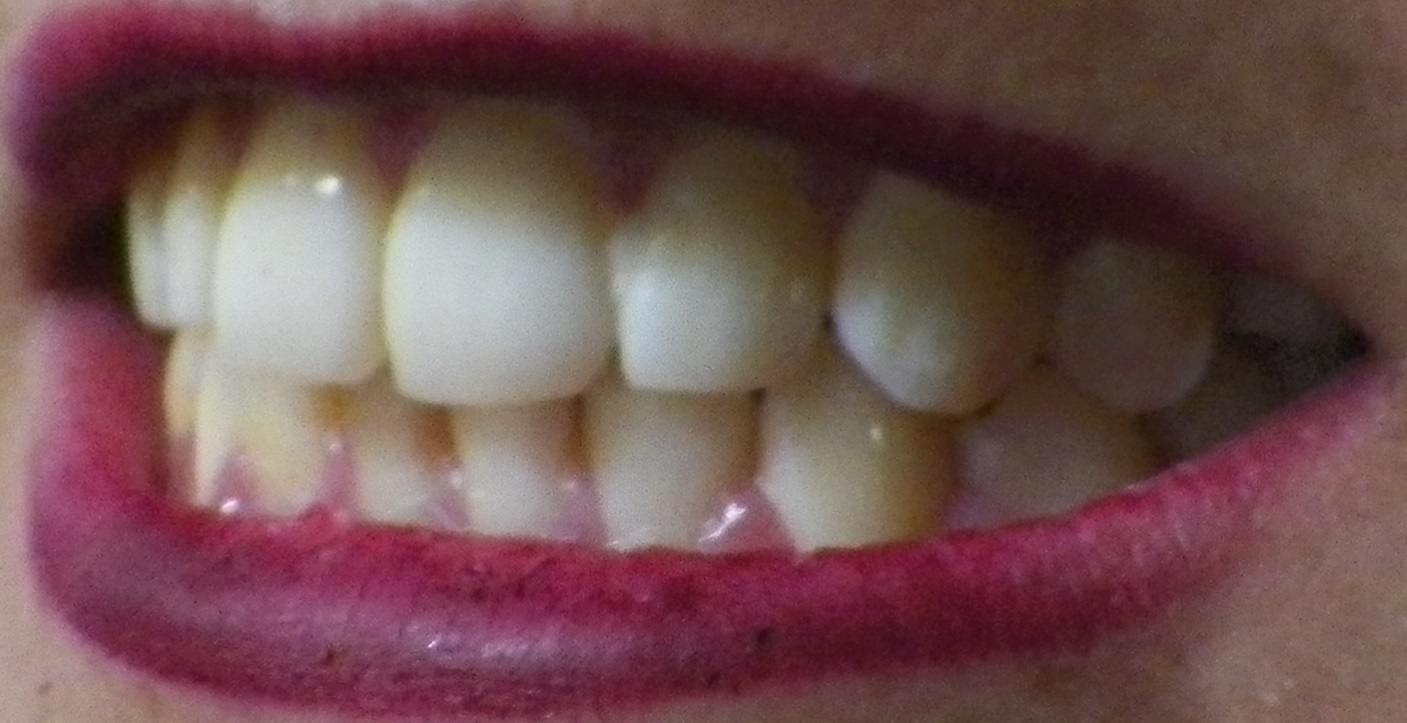boca: (121, 106, 1323, 543)
